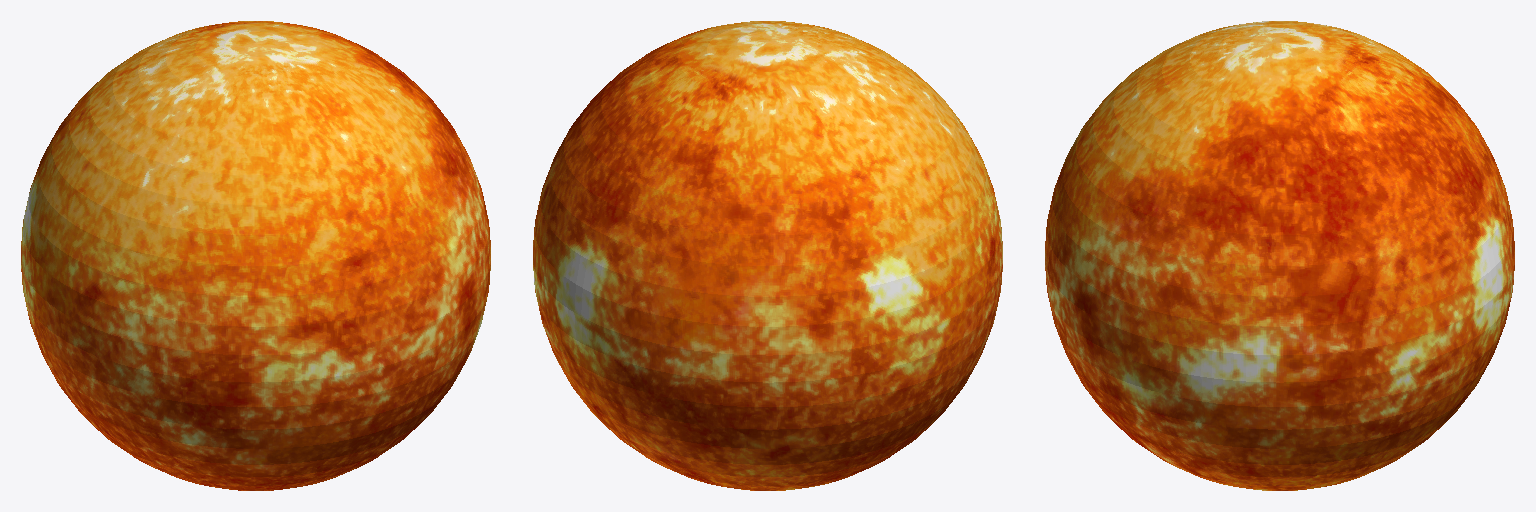
The picture shows the model from 3 angles: view 1: azimuth 30°, elevation 25°; view 2: azimuth 150°, elevation 25°; view 3: azimuth 270°, elevation 25°; orthographic projection.
Bounding box in the file's own units: 200 × 200 × 200.
Materials: 1 (1 with a texture image).